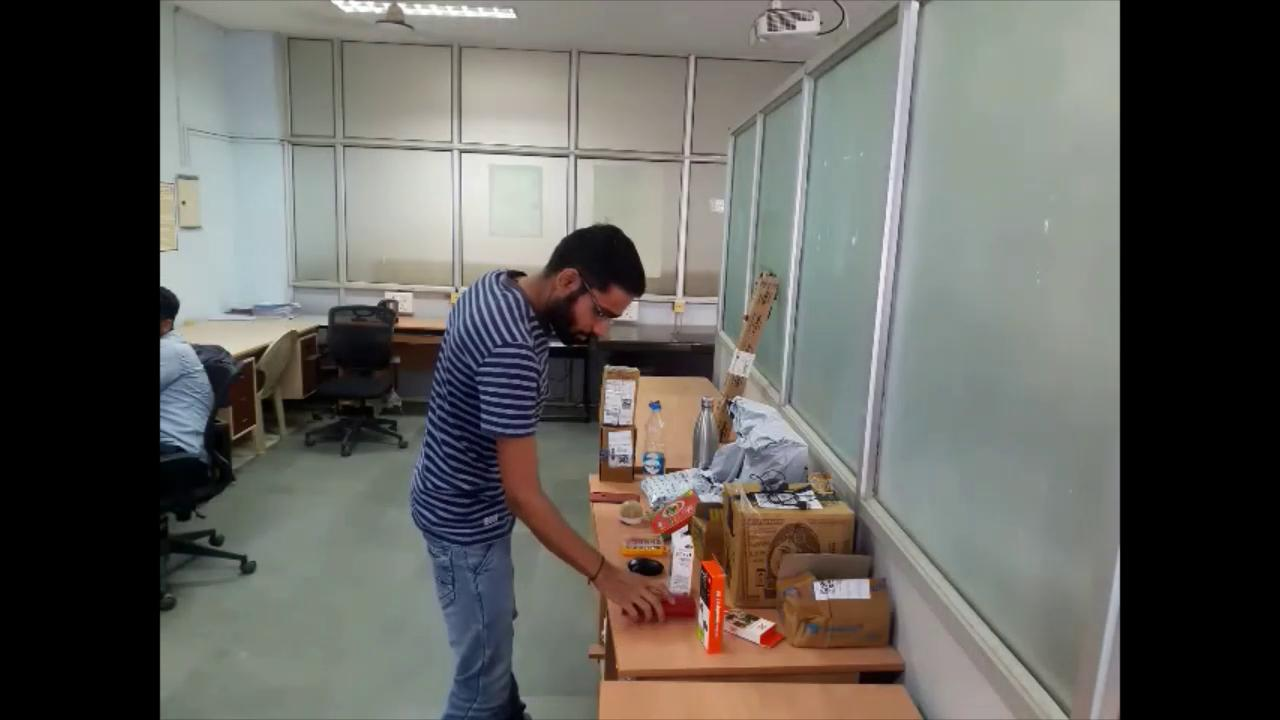Normal: (397, 213, 670, 720)
